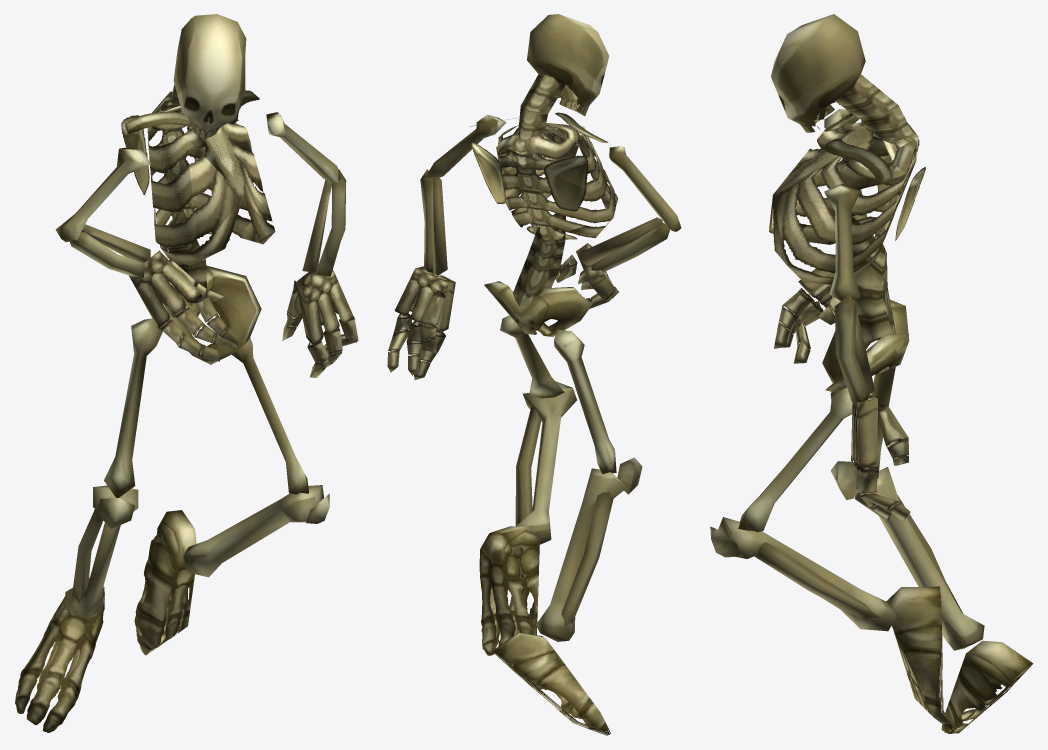
File: environment_common_shitigutou_003_a.FBX
3 views of the same model, side by side, from view 1: azimuth 30°, elevation 25°; view 2: azimuth 150°, elevation 25°; view 3: azimuth 270°, elevation 25° (orthographic). The views are drawn at different scales.
Visible parts, largest first — view 1: environment_common_shitigutou_003_a01, environment_common_shitigutou_003_a04, environment_common_shitigutou_003_a05, environment_common_shitigutou_003_a06, environment_common_shitigutou_003_a03, environment_common_shitigutou_003_a02; view 2: environment_common_shitigutou_003_a01, environment_common_shitigutou_003_a04, environment_common_shitigutou_003_a05, environment_common_shitigutou_003_a03, environment_common_shitigutou_003_a02, environment_common_shitigutou_003_a06; view 3: environment_common_shitigutou_003_a01, environment_common_shitigutou_003_a05, environment_common_shitigutou_003_a04, environment_common_shitigutou_003_a03, environment_common_shitigutou_003_a02, environment_common_shitigutou_003_a06.
Part boxes in pixels (box(x1,y1,x2,y2)): environment_common_shitigutou_003_a01: box(121, 84, 275, 364); environment_common_shitigutou_003_a04: box(15, 318, 162, 732); environment_common_shitigutou_003_a05: box(134, 337, 329, 655); environment_common_shitigutou_003_a06: box(55, 147, 238, 361); environment_common_shitigutou_003_a03: box(266, 112, 358, 377); environment_common_shitigutou_003_a02: box(173, 14, 246, 139); environment_common_shitigutou_003_a01: box(470, 74, 618, 336); environment_common_shitigutou_003_a04: box(492, 329, 642, 735); environment_common_shitigutou_003_a05: box(479, 315, 576, 655); environment_common_shitigutou_003_a03: box(387, 114, 506, 380); environment_common_shitigutou_003_a02: box(527, 14, 609, 116); environment_common_shitigutou_003_a06: box(555, 146, 681, 308); environment_common_shitigutou_003_a01: box(769, 74, 925, 392); environment_common_shitigutou_003_a05: box(710, 387, 952, 731); environment_common_shitigutou_003_a04: box(831, 367, 1033, 733); environment_common_shitigutou_003_a03: box(824, 183, 910, 522); environment_common_shitigutou_003_a02: box(771, 14, 865, 132); environment_common_shitigutou_003_a06: box(774, 109, 867, 363).
Bounding box in the file's own units: 123 × 284 × 109.
